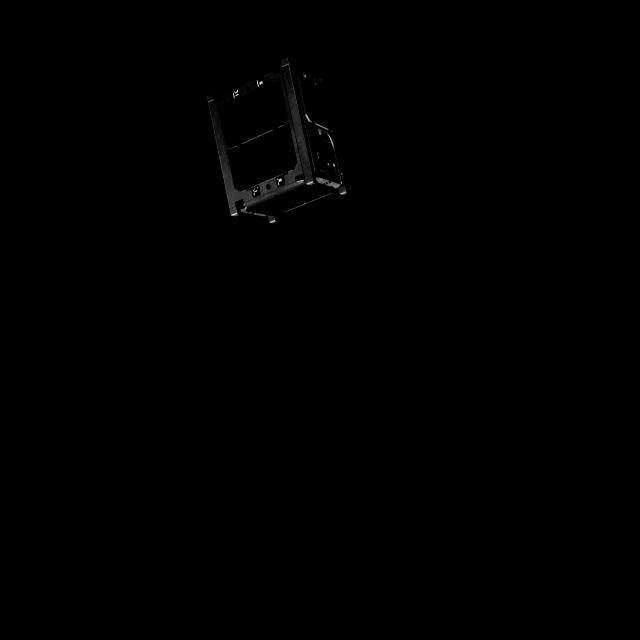satellite: (202, 59, 347, 240)
